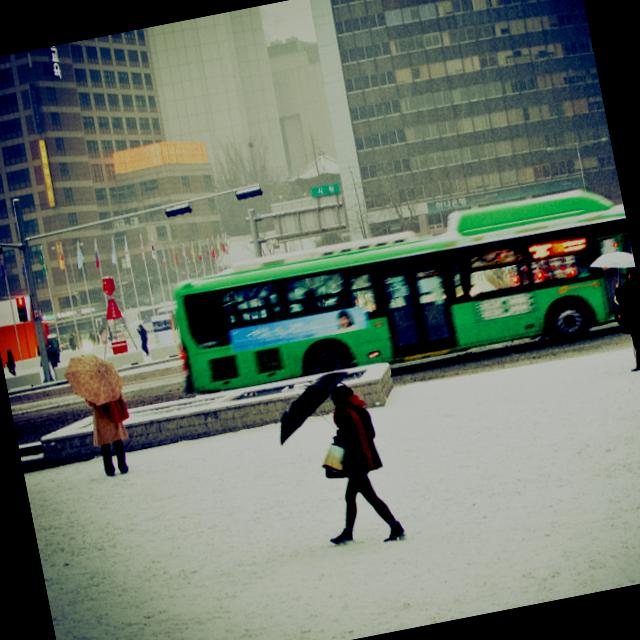Vehicle: (164, 176, 640, 406)
